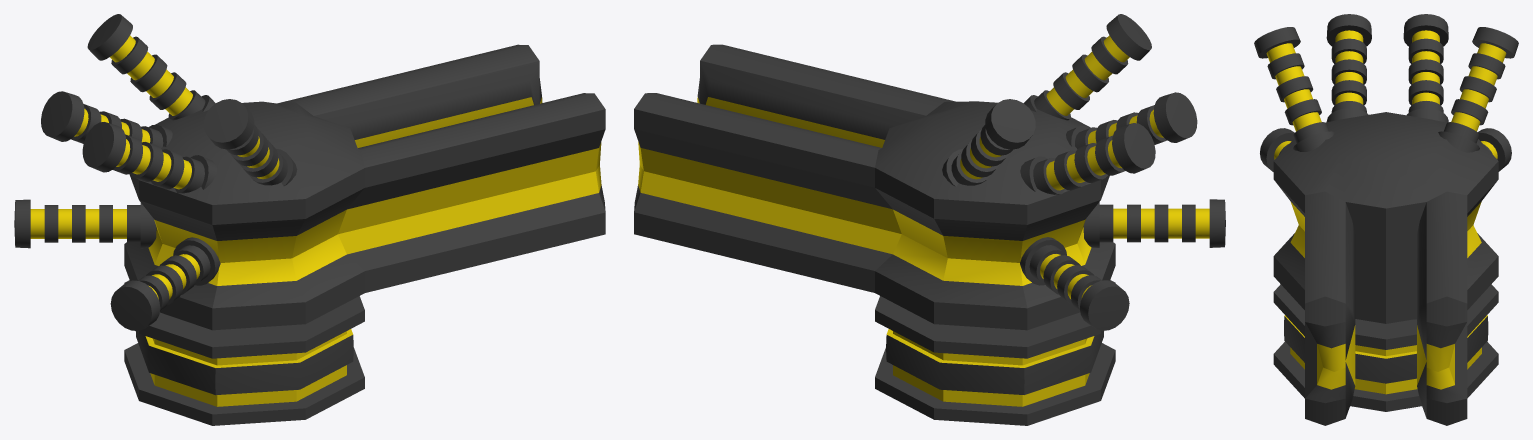
Rendered from Tef the turret 2 SNAPSHOT.fbx.
The picture shows the model from 3 angles, left to right: view 1: azimuth 30°, elevation 25°; view 2: azimuth 150°, elevation 25°; view 3: azimuth 270°, elevation 25°; orthographic projection. The views are drawn at different scales.
Visible parts, largest first — view 1: pCylinder21; view 2: pCylinder21; view 3: pCylinder21.
Boxes of the visible parts, x1,y1,x2,y2 form: pCylinder21: [14, 14, 605, 425]; pCylinder21: [634, 14, 1225, 425]; pCylinder21: [1254, 14, 1518, 425].
Size of the model in its own units: 4149 by 2592 by 2030.
